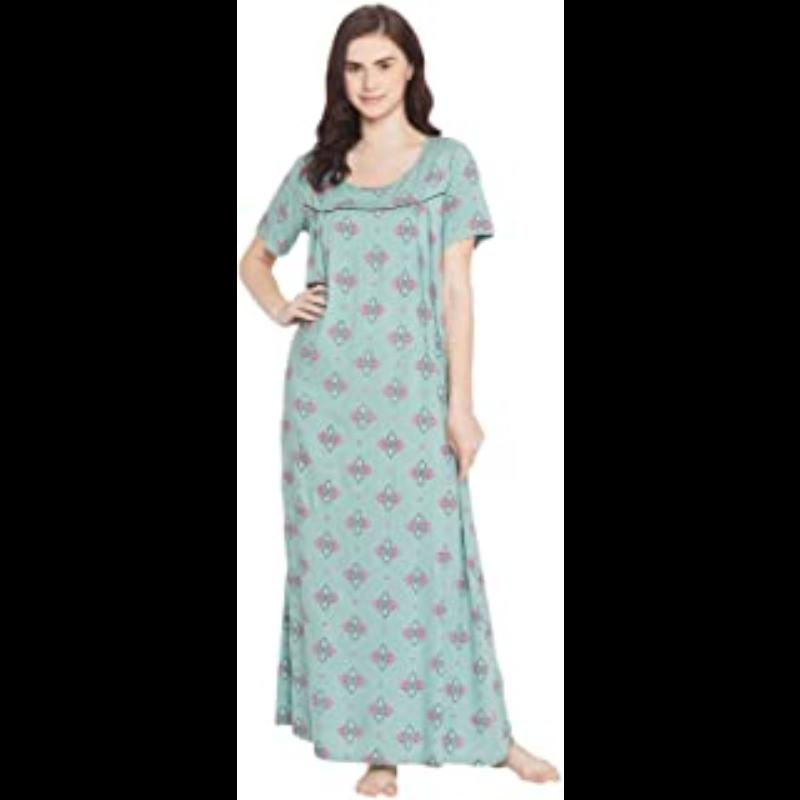Maxi: (244, 154, 536, 768)
